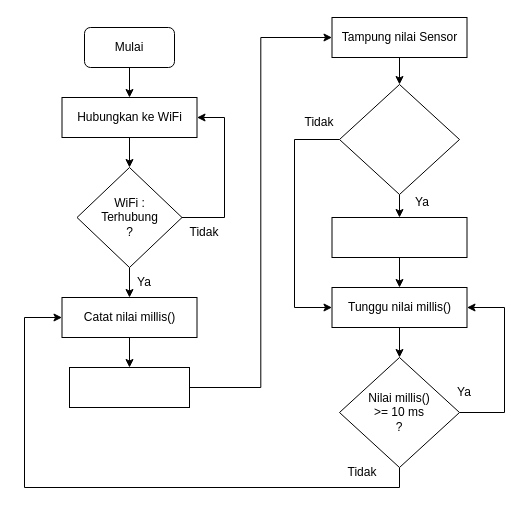
Some shapes in this 530 by 513 pixel diagram are drawn without their labels. Here are the shapes that lost their labels. From the top down, the centre of each, then its label:
point (399, 139): Banyak data tampung >= 30 ?
point (399, 237): Kirim ke Web Client
point (129, 387): Cek nilai Sensor
